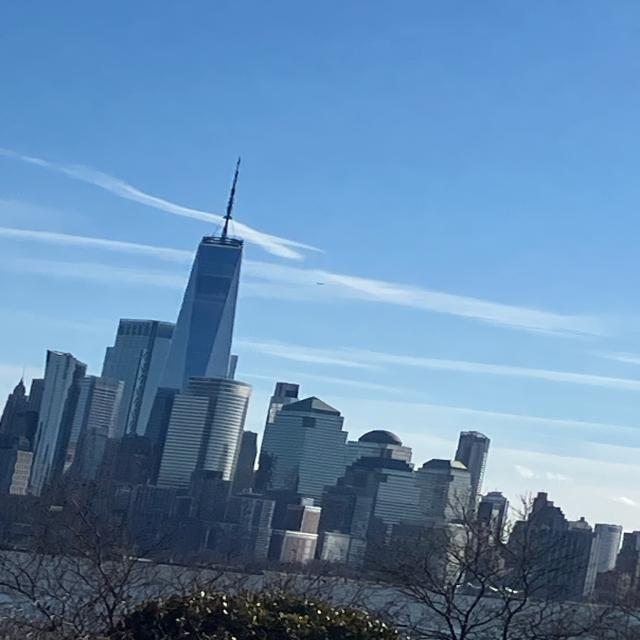WTC: (161, 151, 264, 378)
